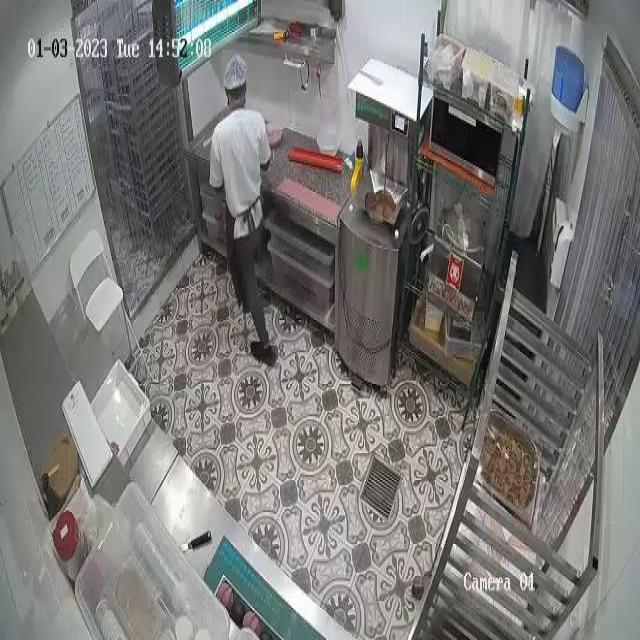hairnet: (222, 55, 247, 87)
